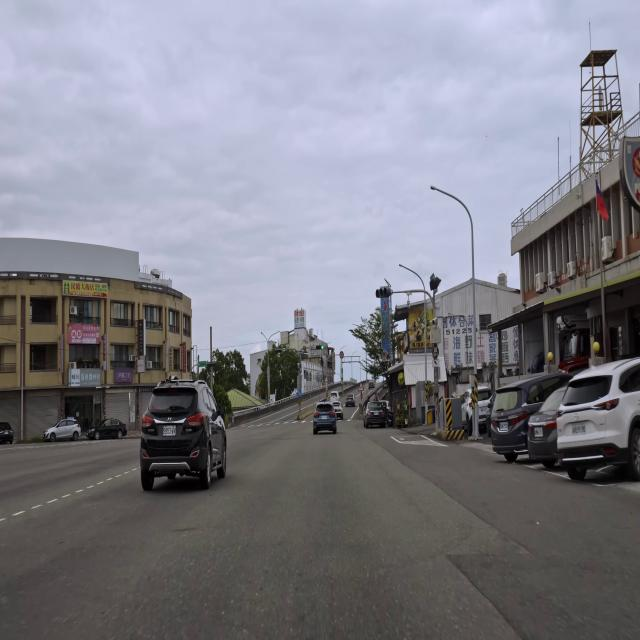green light: (316, 345, 324, 350)
